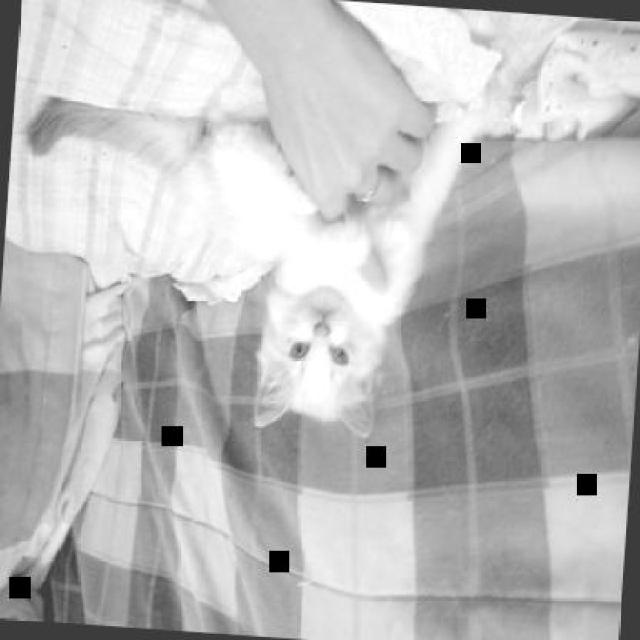cat: (10, 85, 482, 449)
